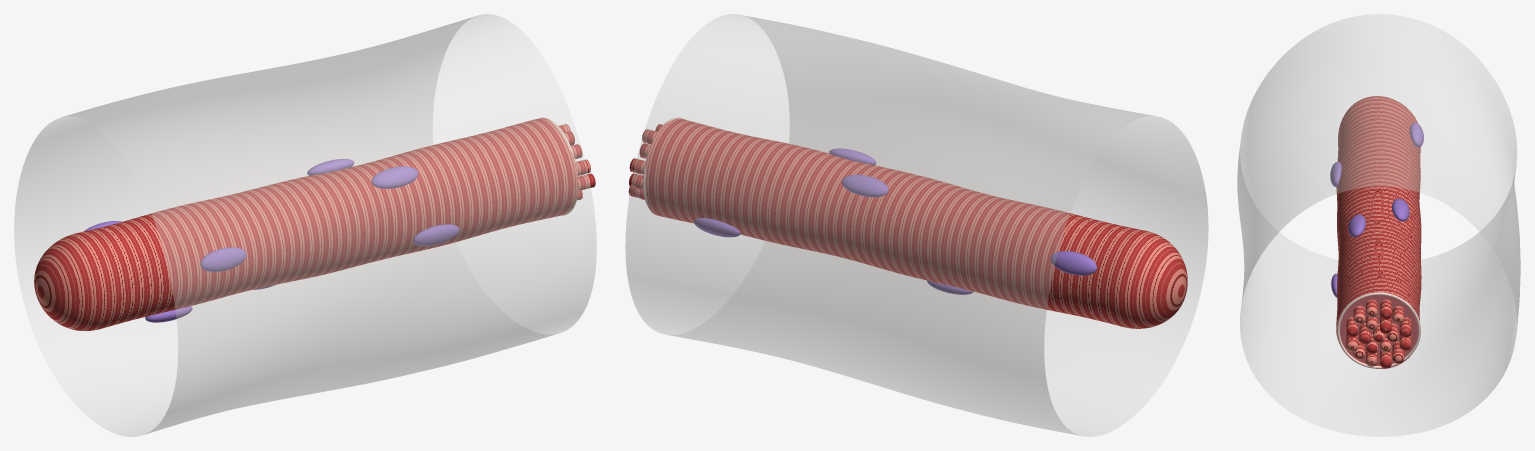
The model's file is muscle.glb.
3 renders of one model, left to right at view 1: azimuth 30°, elevation 25°; view 2: azimuth 150°, elevation 25°; view 3: azimuth 270°, elevation 25°, orthographic. The views are drawn at different scales.
Parts seen in each view (by area): view 1: Tissue_Sheath, Fiber_Membrane, Fiber_Nuclei, Fiber_Myofibrils; view 2: Tissue_Sheath, Fiber_Membrane, Fiber_Nuclei, Fiber_Myofibrils; view 3: Tissue_Sheath, Fiber_Membrane, Fiber_Myofibrils, Fiber_CutFace, Fiber_Nuclei, Fiber_Rim.
Part boxes in pixels (bbox=[...]): Tissue_Sheath: bbox=[14, 14, 596, 436]; Fiber_Membrane: bbox=[34, 117, 578, 330]; Fiber_Nuclei: bbox=[84, 159, 459, 322]; Fiber_Myofibrils: bbox=[558, 124, 595, 200]; Tissue_Sheath: bbox=[625, 14, 1208, 436]; Fiber_Membrane: bbox=[645, 118, 1187, 328]; Fiber_Nuclei: bbox=[694, 148, 1096, 294]; Fiber_Myofibrils: bbox=[628, 124, 662, 199]; Tissue_Sheath: bbox=[1237, 14, 1520, 436]; Fiber_Membrane: bbox=[1336, 96, 1421, 368]; Fiber_Myofibrils: bbox=[1346, 293, 1411, 368]; Fiber_CutFace: bbox=[1340, 295, 1417, 364]; Fiber_Nuclei: bbox=[1330, 122, 1423, 297]; Fiber_Rim: bbox=[1337, 292, 1420, 368].
Size of the model in its own units: 6.32 by 3.4 by 3.4.
Materials: 5 (1 with a texture image).
